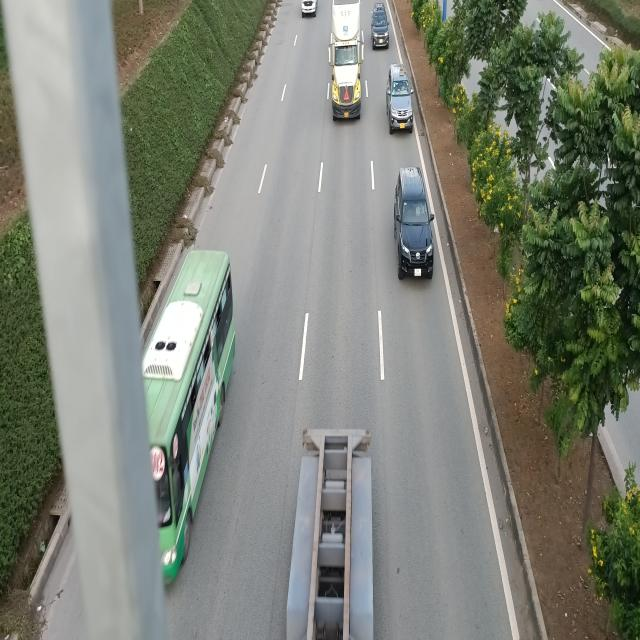car: (395, 164, 435, 278), (385, 63, 413, 132), (370, 0, 390, 48)
coach: (141, 250, 235, 584)
container: (284, 430, 375, 640), (329, 2, 365, 120)
